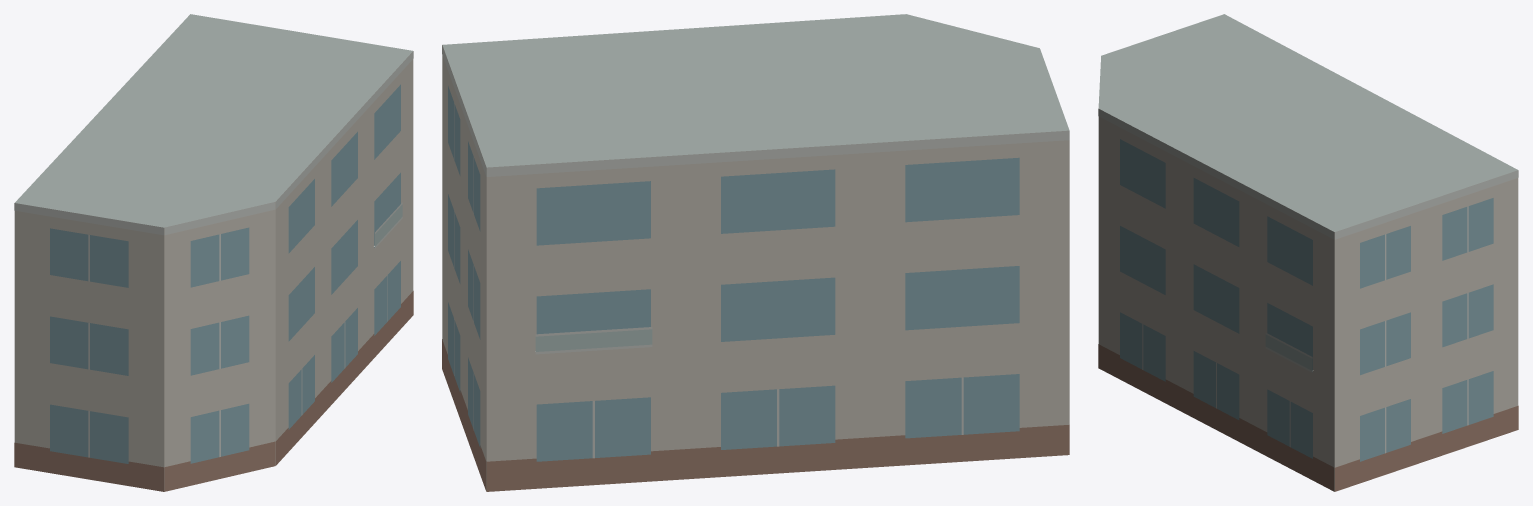
Rendered from survey-upis-33029305.glb.
3 views of the same model, side by side, from view 1: azimuth 30°, elevation 25°; view 2: azimuth 150°, elevation 25°; view 3: azimuth 270°, elevation 25° (orthographic). The views are drawn at different scales.
Parts seen in each view (by area): view 1: survey-upis-33029305.tmp; view 2: survey-upis-33029305.tmp; view 3: survey-upis-33029305.tmp.
Boxes of the visible parts, x1,y1,x2,y2 form: survey-upis-33029305.tmp: [14, 14, 413, 491]; survey-upis-33029305.tmp: [442, 14, 1069, 491]; survey-upis-33029305.tmp: [1098, 14, 1518, 491].
Bounding box in the file's own units: 14.97 × 8.3 × 12.18.
